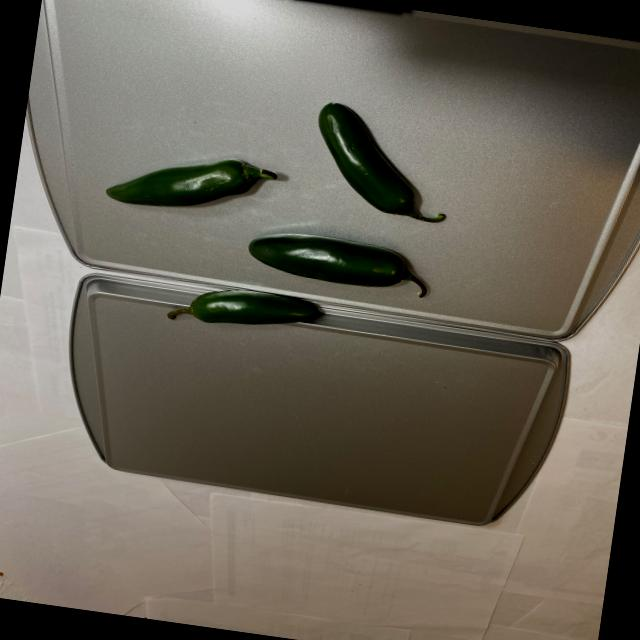chilli: (89, 70, 474, 360)
